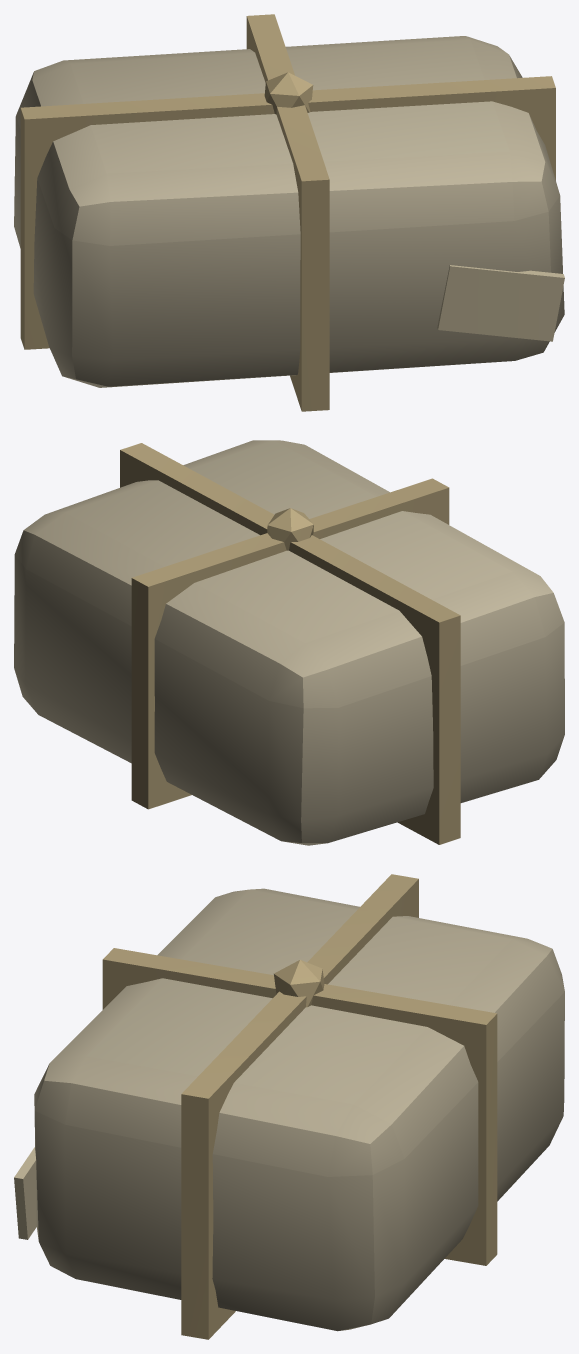
File: ph_item_specimen_bundle.glb
3 renders of one model, top to bottom at view 1: azimuth 30°, elevation 25°; view 2: azimuth 150°, elevation 25°; view 3: azimuth 270°, elevation 25°, orthographic. The views are drawn at different scales.
Visible parts, largest first — view 1: ph_item_specimen_bundle; view 2: ph_item_specimen_bundle; view 3: ph_item_specimen_bundle.
Boxes of the visible parts, x1,y1,x2,y2 form: ph_item_specimen_bundle: (14,14,564,411); ph_item_specimen_bundle: (14,440,564,845); ph_item_specimen_bundle: (14,874,564,1339).
Bounding box in the file's own units: 0.2478 × 0.12 × 0.2237.
